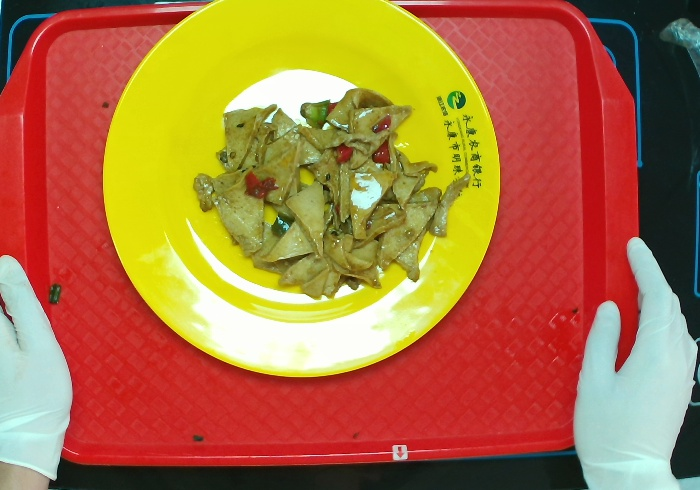YKMZ-Huang_Se_Mian_Pan: (94, 1, 502, 387)
